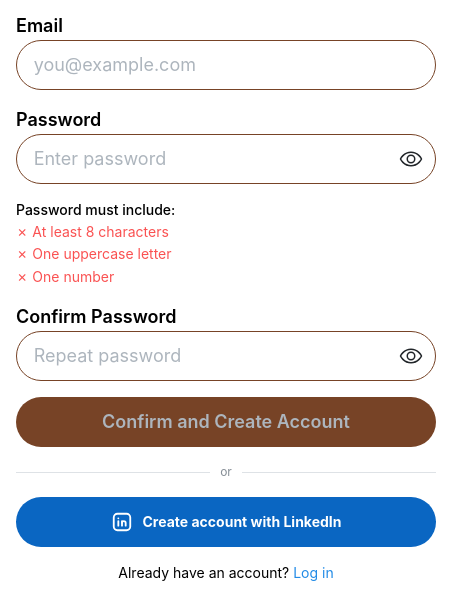
Test: Register › keeps the submit button disabled until email, password, and confirm password have input
Expected: the button "Confirm and Create Account" is disabled, [16,397,436,447]
Type "david@example.com" into the field labelled "Email" at (226, 65), box [16,40,436,90]
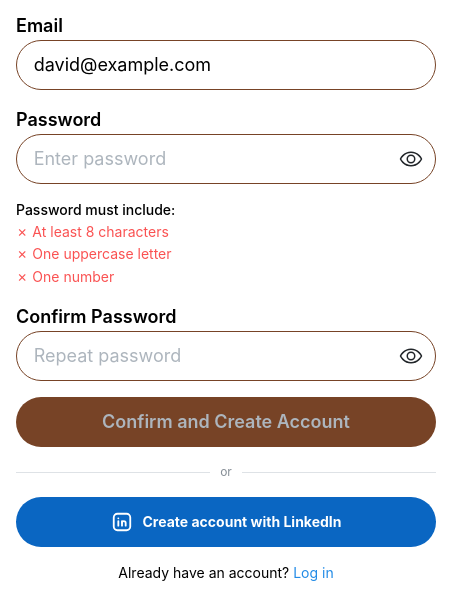
Type "Password1" into the password field labelled "Password" at (226, 159), box [17,135,435,183]
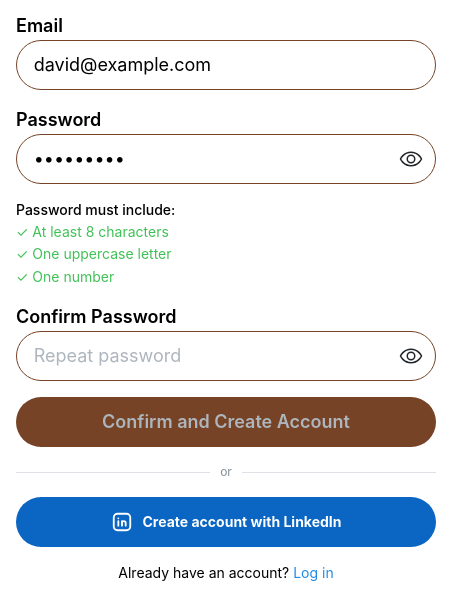
Expected: the button "Confirm and Create Account" is disabled, [16,397,436,447]
Type "Password1" into the password field labelled "Confirm Password" at (226, 356), box [17,332,435,380]
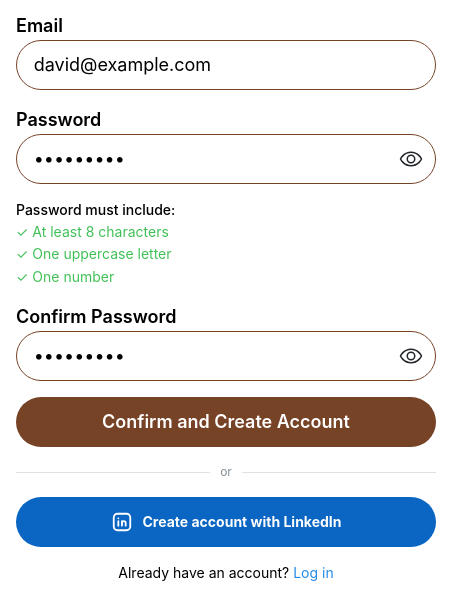
Now the button "Confirm and Create Account" is enabled, box [16,397,436,447]
